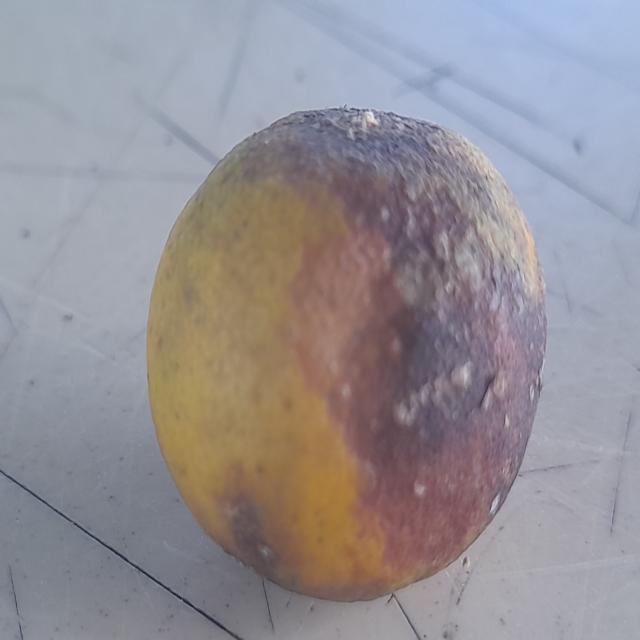black spot: (135, 98, 561, 619)
